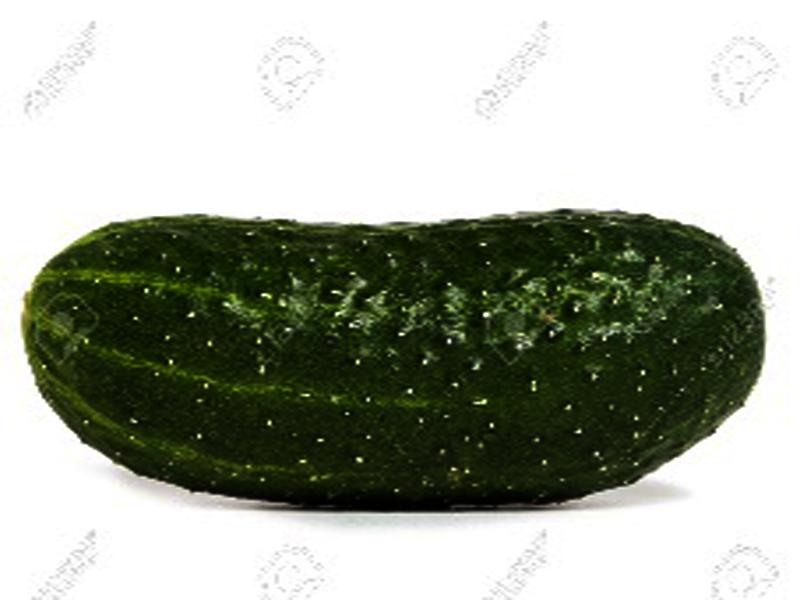Cucumber: (21, 217, 765, 507)
